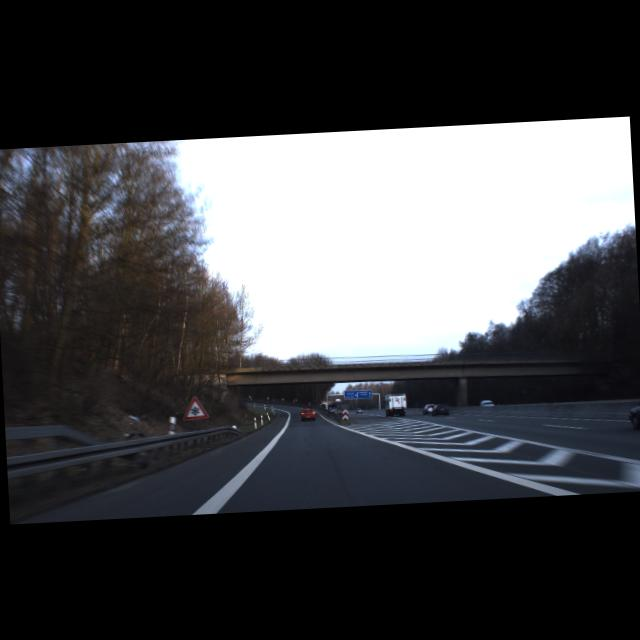danger: (182, 395, 210, 420)
